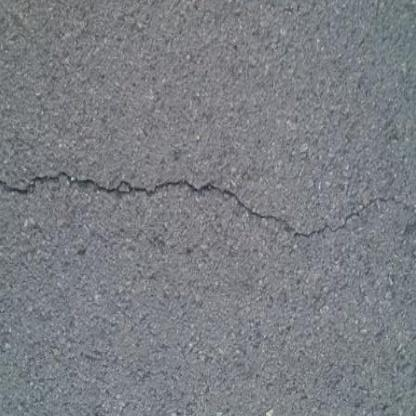Cracks: (0, 123, 416, 270)
